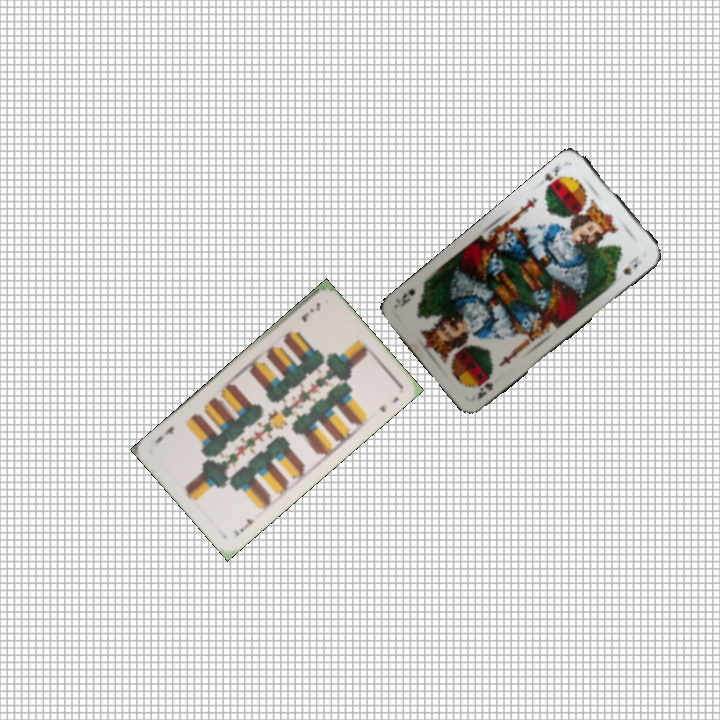E7: (297, 298, 323, 325), (229, 514, 257, 539)
SK: (540, 161, 568, 193), (473, 373, 496, 402)
